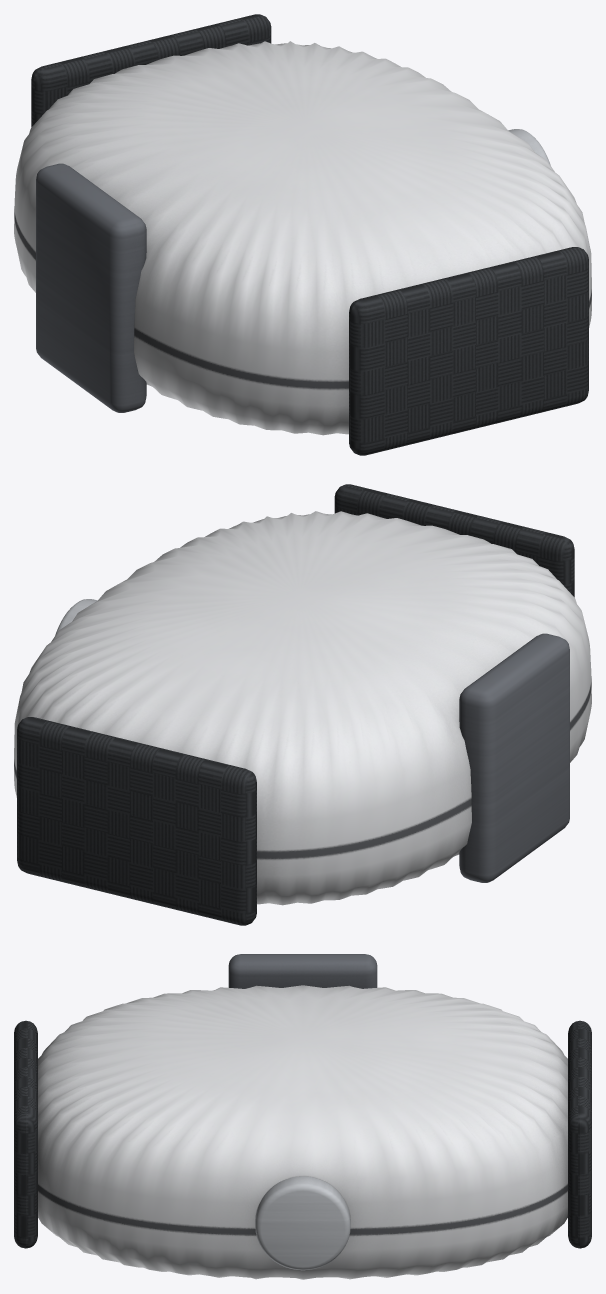
Rendered from waist.glb.
The picture shows the model from 3 angles, top to bottom: view 1: azimuth 30°, elevation 25°; view 2: azimuth 150°, elevation 25°; view 3: azimuth 270°, elevation 25°; orthographic projection. The views are drawn at different scales.
Parts seen in each view (by area): view 1: waist; view 2: waist; view 3: waist.
Boxes of the visible parts, x1,y1,x2,y2 form: waist: [14, 14, 591, 455]; waist: [14, 484, 591, 925]; waist: [14, 954, 591, 1279].
Size of the model in its own units: 0.155 by 0.069 by 0.194.
Materials: 1 (1 with a texture image).
